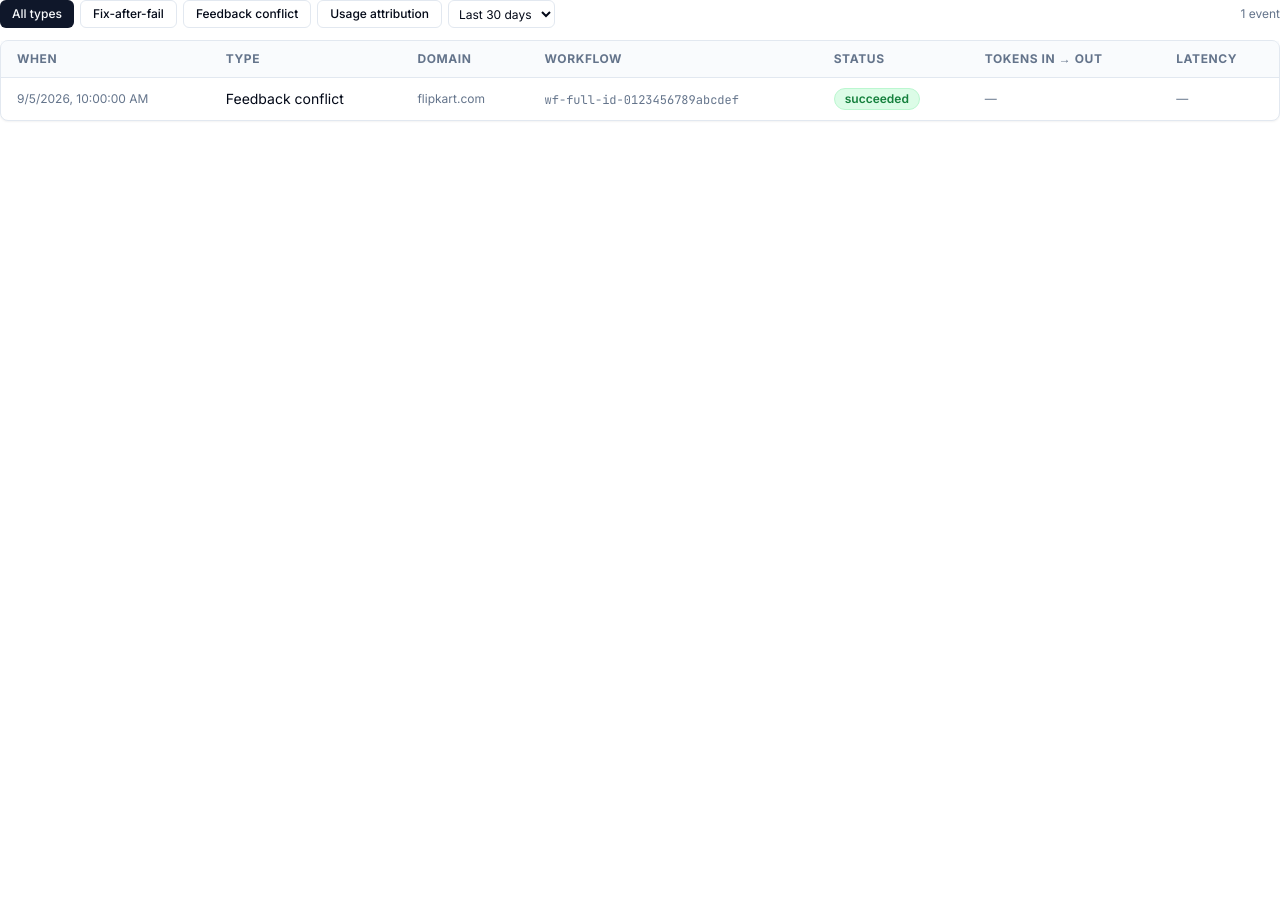
TriggerDrawer — opening one event › shows a loading line, then the error if the read fails
What coordinates should you click on to do the following:
click the text "Feedback conflict"
I would click on:
 (306, 99)
Its box is [210,78,401,120].
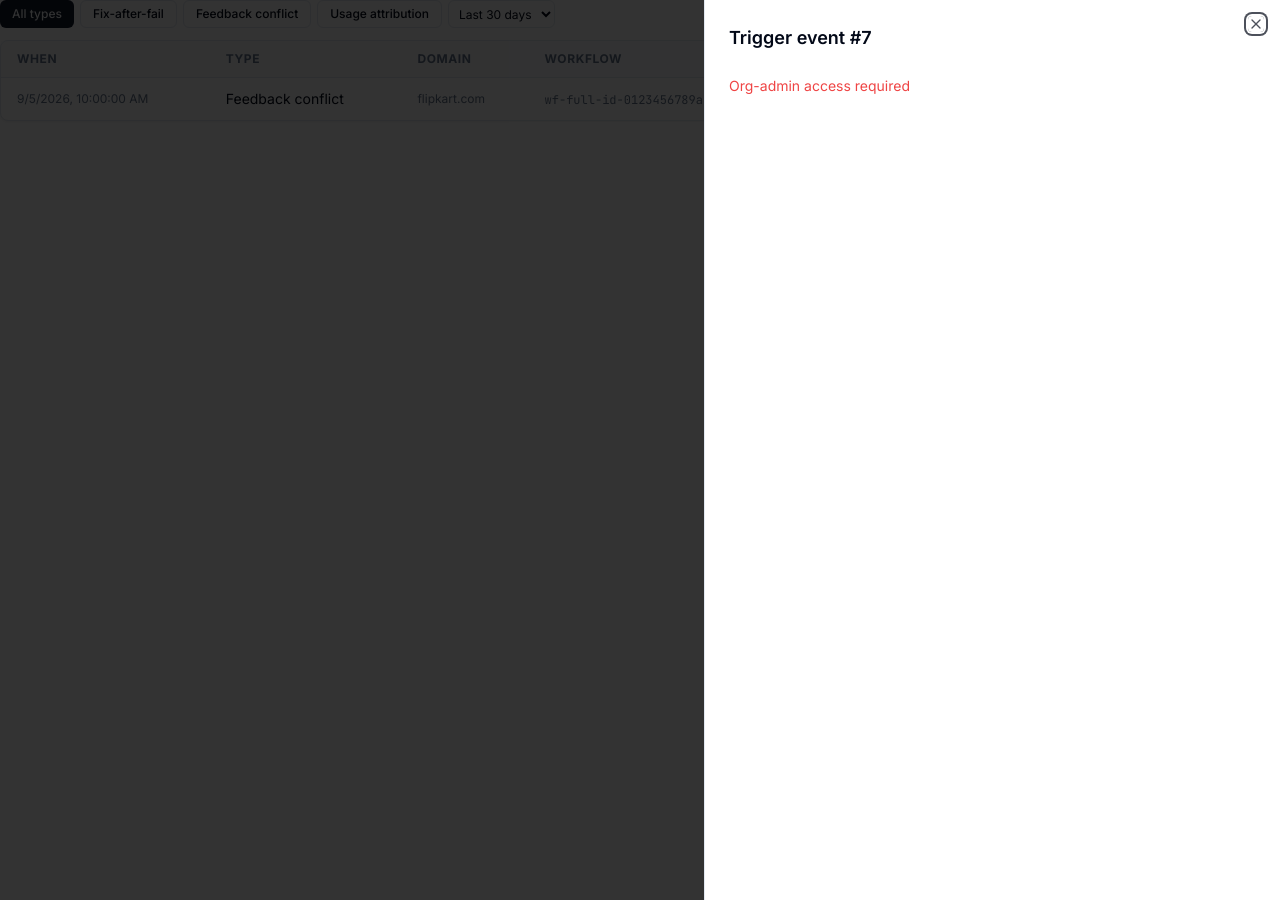
Expected: the text "Org-admin access required" is shown, [729,77,910,94]
